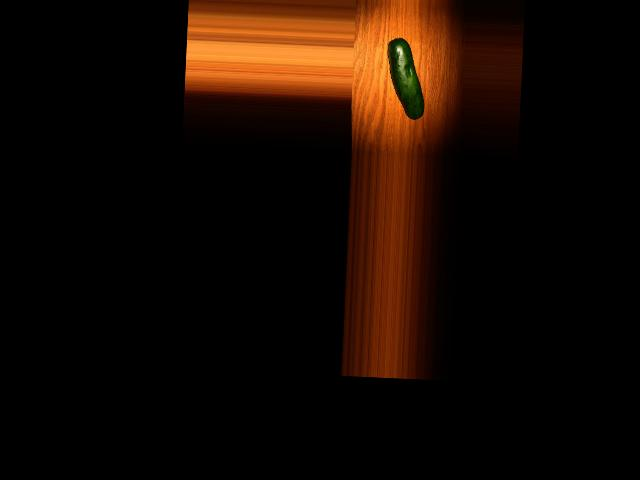cucumber: (384, 38, 426, 120)
